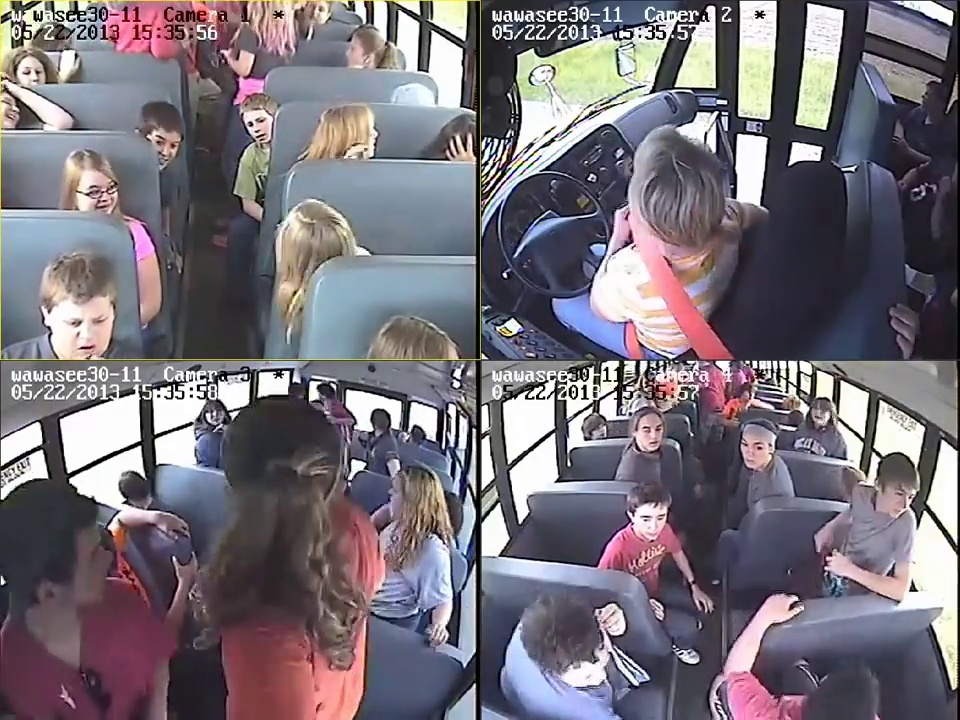face: (58, 521, 117, 609), (49, 295, 115, 354), (81, 169, 119, 215), (149, 129, 185, 169), (875, 484, 916, 513), (739, 439, 775, 466), (13, 57, 50, 82), (246, 111, 271, 145), (637, 418, 662, 450), (635, 510, 665, 536), (0, 92, 22, 127), (343, 39, 369, 65), (305, 2, 331, 23), (809, 403, 831, 424), (204, 406, 227, 425), (594, 423, 610, 442)
